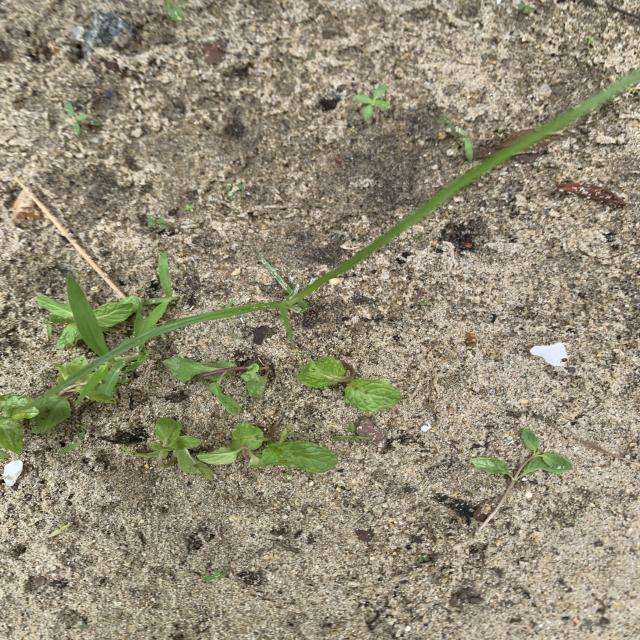crop: (468, 428, 572, 530), (197, 423, 337, 473), (163, 357, 269, 416), (296, 356, 401, 412), (135, 418, 214, 478), (0, 393, 71, 454), (35, 295, 81, 349), (94, 296, 141, 331), (46, 357, 88, 384)
weed: (15, 73, 640, 413), (138, 253, 180, 336)
